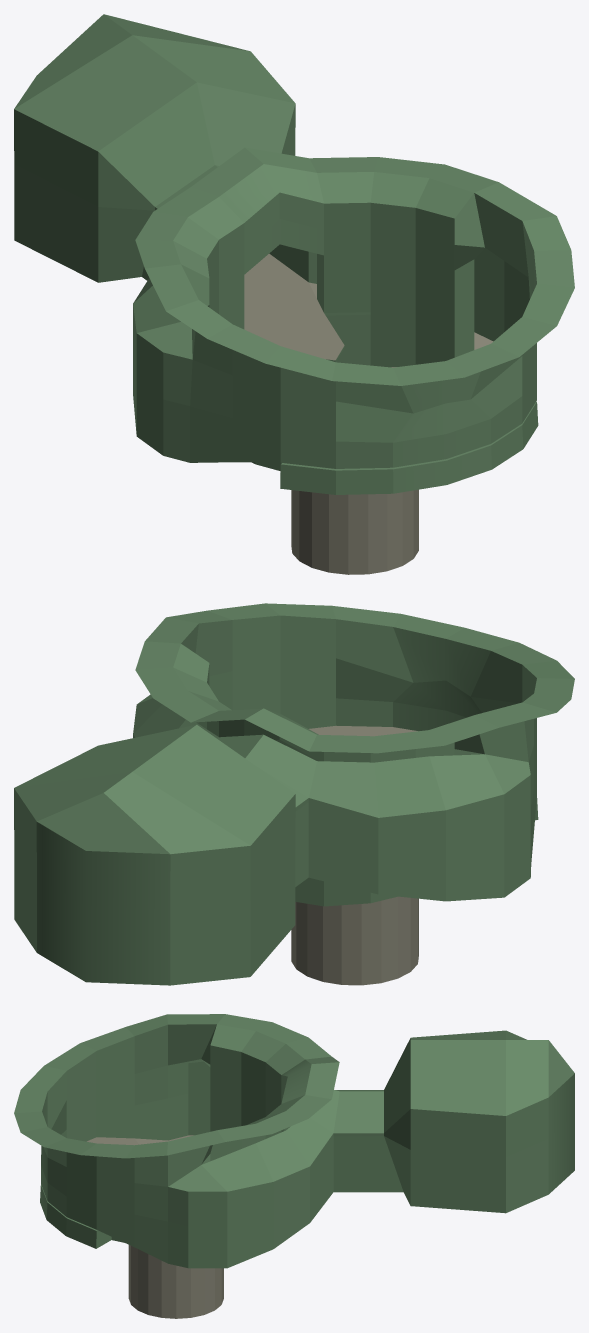
The model's file is Arena Mk 4.fbx.
The picture shows the model from 3 angles, top to bottom: view 1: azimuth 30°, elevation 25°; view 2: azimuth 150°, elevation 25°; view 3: azimuth 270°, elevation 25°; orthographic projection. The views are drawn at different scales.
Visible parts, largest first — view 1: Walls, Tunnel_Wall, Floors; view 2: Walls, Tunnel_Wall, Floors; view 3: Walls, Tunnel_Wall, Floors.
Boxes of the visible parts, x1=… form: Walls: x1=14, y1=14, x2=574, y2=494; Tunnel_Wall: x1=291, y1=489, x2=418, y2=574; Floors: x1=244, y1=253, x2=493, y2=367; Walls: x1=14, y1=603, x2=574, y2=985; Tunnel_Wall: x1=291, y1=896, x2=418, y2=985; Floors: x1=309, y1=725, x2=417, y2=736; Walls: x1=14, y1=1014, x2=574, y2=1268; Tunnel_Wall: x1=128, y1=1245, x2=223, y2=1318; Floors: x1=87, y1=1135, x2=193, y2=1145.
Bounding box in the file's own units: 126 × 108 × 212.
